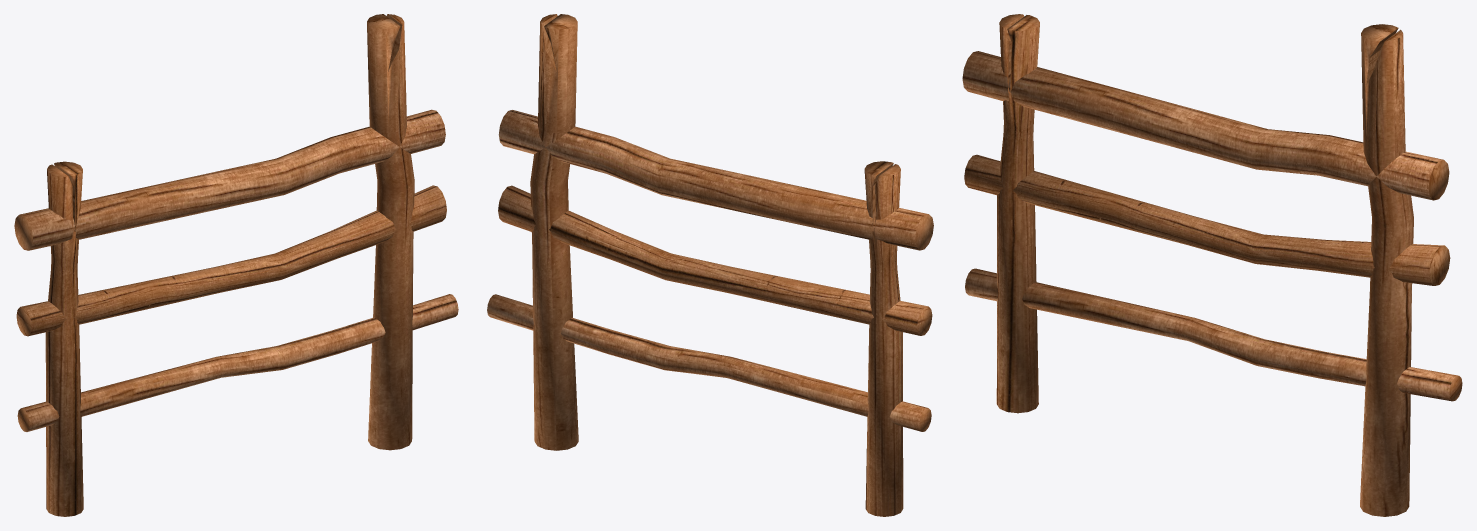
The model's file is ZaborPrefab.fbx.
3 renders of one model, left to right at view 1: azimuth 30°, elevation 25°; view 2: azimuth 150°, elevation 25°; view 3: azimuth 330°, elevation 25°, orthographic. The views are drawn at different scales.
Parts seen in each view (by area): view 1: Cylinder.002; view 2: Cylinder.002; view 3: Cylinder.002.
Boxes of the visible parts, bbox=[...] form: Cylinder.002: bbox=[14, 14, 458, 516]; Cylinder.002: bbox=[487, 14, 933, 516]; Cylinder.002: bbox=[962, 14, 1462, 516].
Size of the model in its own units: 298 by 278 by 26.51.
1 material, 1 textured.
